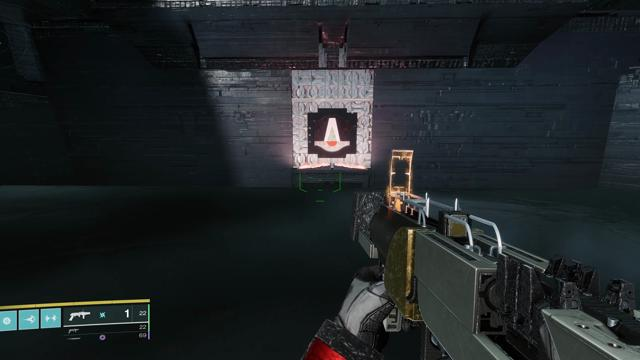enter: (314, 115, 351, 152)
